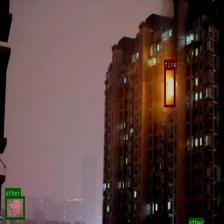fire: (164, 68, 175, 106)
